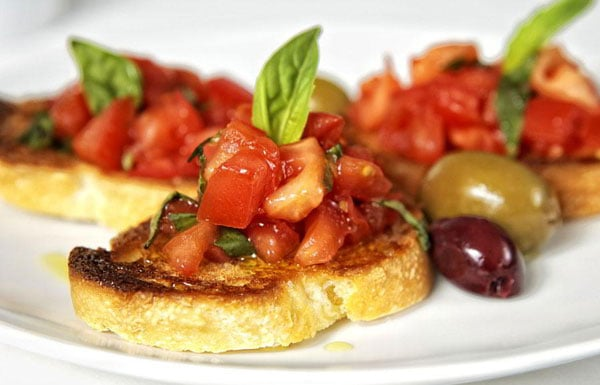curry: (66, 39, 146, 115)
soup: (65, 42, 434, 355)
